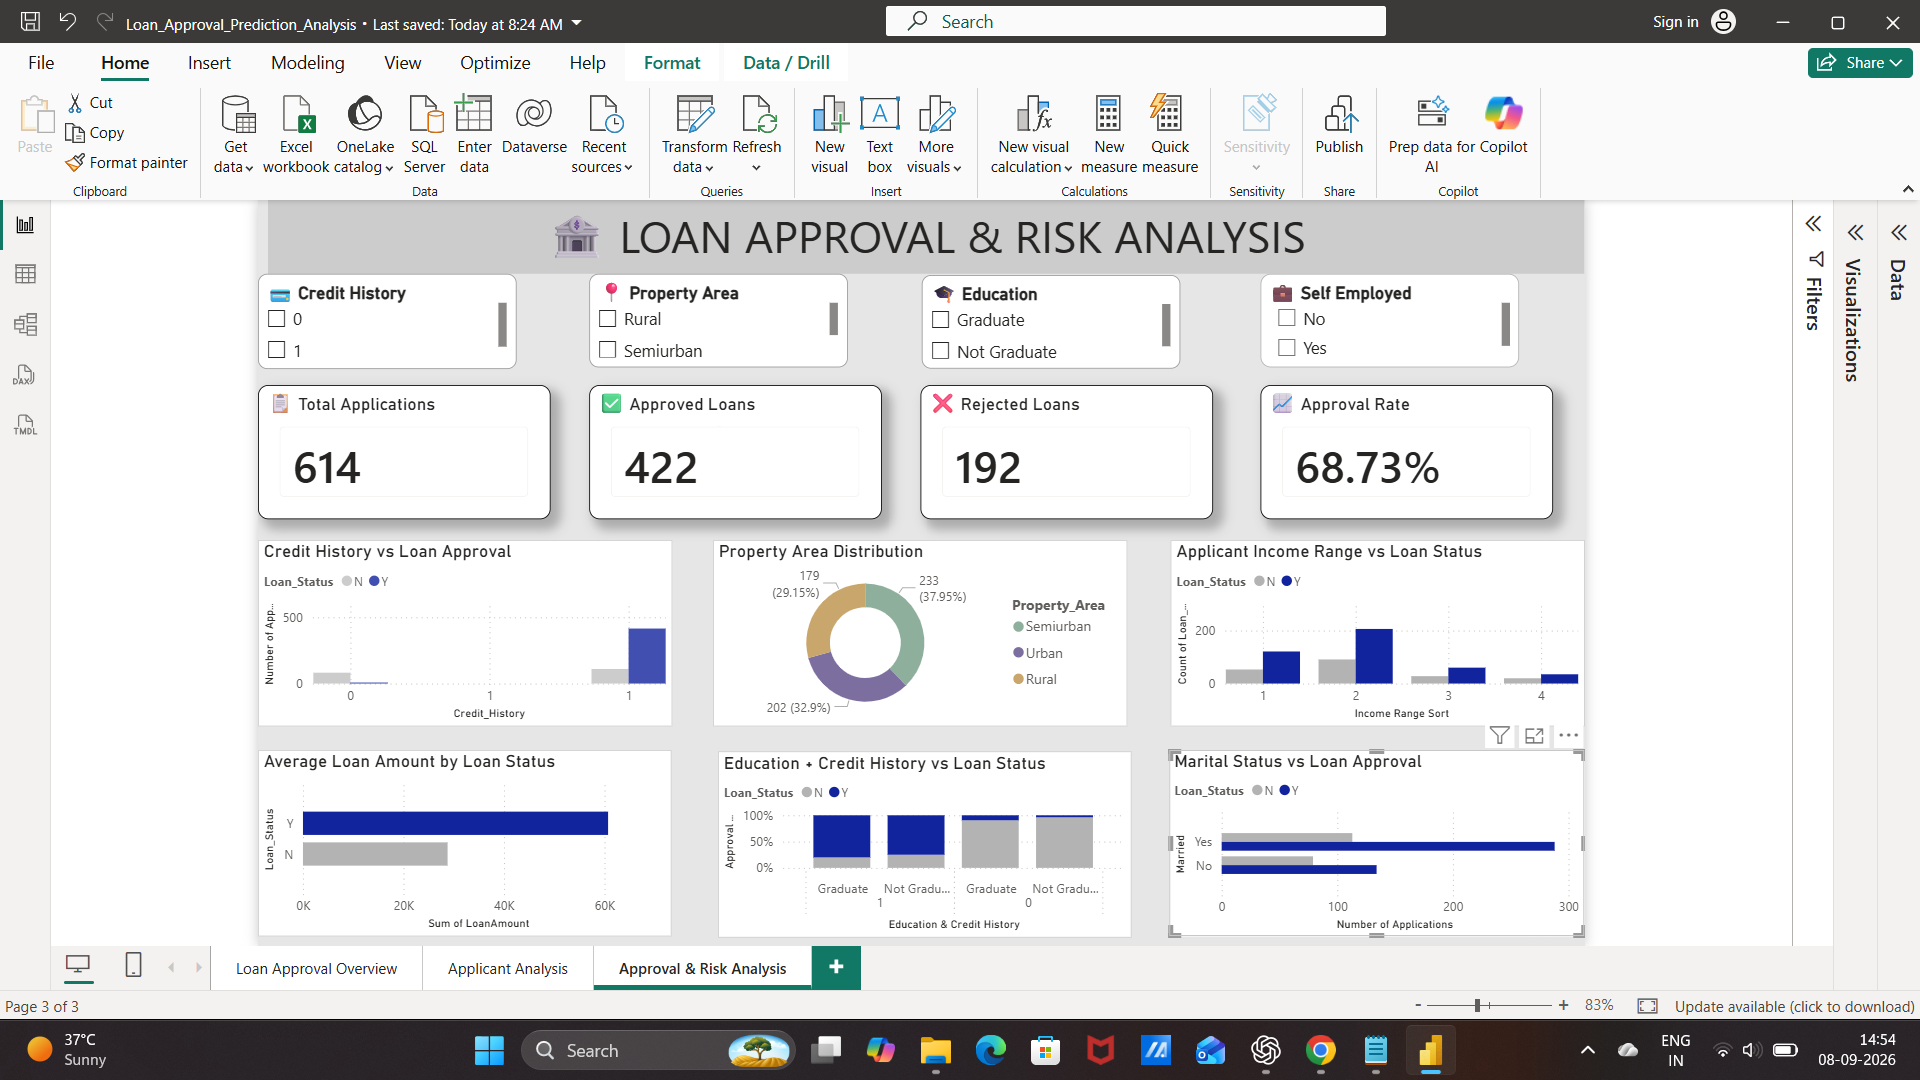

This screenshot's page, from the dashboard's own definition file:
{"tool":"powerbi","page":{"name":"Approval & Risk Analysis","canvas":[1280,720],"ordinal":2},"visuals":[{"type":"textbox","box":[9.8,0,1270.5,70.9],"z":0},{"type":"cardVisual","title":"📋 Total Applications","fields":{"Data":["LoanData.Total Applications"]},"box":[0,178.5,282.5,129.6],"z":1000},{"type":"cardVisual","title":"✅ Approved Loans","fields":{"Data":["LoanData.Approved Applications"]},"box":[319.2,178.5,282.5,129.6],"z":2000},{"type":"cardVisual","title":"❌ Rejected Loans","fields":{"Data":["LoanData.Rejected Applications"]},"box":[639.5,178.5,282.5,129.6],"z":3000},{"type":"cardVisual","title":"📈 Approval Rate","fields":{"Data":["LoanData.Approval Rate %"]},"box":[967.3,178.5,282.5,129.6],"z":4000},{"type":"listSlicer","title":"💳 Credit History","fields":{"Values":["LoanData.Credit_History"]},"box":[0,70.9,249.5,91.7],"z":5000},{"type":"listSlicer","title":"📍 Property Area","fields":{"Values":["LoanData.Property_Area"]},"box":[319.2,70.9,249.5,90.5],"z":6000},{"type":"listSlicer","title":"🎓 Education","fields":{"Values":["LoanData.Education"]},"box":[640.8,72.1,249.5,90.5],"z":7000},{"type":"slicer","title":"💼 Self Employed","fields":{"Values":["LoanData.Self_Employed"]},"box":[967.3,70.9,249.5,90.5],"z":8000},{"type":"clusteredColumnChart","title":"Credit History vs Loan Approval","fields":{"Category":["LoanData.Credit_History"],"Y":["CountNonNull(LoanData.Loan_ID)"],"Series":["LoanData.Loan_Status"]},"box":[0,327.7,399.9,179.8],"z":9000},{"type":"donutChart","title":"Property Area Distribution","fields":{"Category":["LoanData.Property_Area"],"Y":["CountNonNull(LoanData.Loan_ID)"]},"box":[439,327.7,399.9,179.8],"z":10000},{"type":"clusteredColumnChart","title":"Applicant Income Range vs Loan Status","fields":{"Category":["LoanData.Income Range Sort"],"Y":["CountNonNull(LoanData.Loan_ID)"],"Series":["LoanData.Loan_Status"]},"box":[880.4,327.7,399.9,179.8],"z":11000},{"type":"clusteredBarChart","title":"Average Loan Amount by Loan Status","fields":{"Category":["LoanData.Loan_Status"],"Y":["Sum(LoanData.LoanAmount)"]},"box":[0,530.8,399.3,179.8],"z":12000},{"type":"hundredPercentStackedColumnChart","title":"Education + Credit History vs Loan Status","fields":{"Category":["LoanData.Credit_History","LoanData.Education"],"Y":["CountNonNull(LoanData.Loan_ID)"],"Series":["LoanData.Loan_Status"]},"box":[444,532,399.3,179.8],"z":13000},{"type":"clusteredBarChart","title":" Marital Status vs Loan Approval","fields":{"Category":["LoanData.Married"],"Y":["CountNonNull(LoanData.Loan_ID)"],"Series":["LoanData.Loan_Status"]},"box":[879.5,530.8,400.5,179.8],"z":14000}]}

Visuals, with their boxes on the page's 1280x720 design canvas (x1, y1, x2, y2). These are canvas units, not pixel positions in the 1920x1080 screenshot, which may show the page scaled, cropped or inside an application window:
textbox: <box>10,0,1280,71</box>
"📋 Total Applications" cardVisual: <box>0,178,282,308</box>
"✅ Approved Loans" cardVisual: <box>319,178,602,308</box>
"❌ Rejected Loans" cardVisual: <box>640,178,922,308</box>
"📈 Approval Rate" cardVisual: <box>967,178,1250,308</box>
"💳 Credit History" listSlicer: <box>0,71,250,163</box>
"📍 Property Area" listSlicer: <box>319,71,569,161</box>
"🎓 Education" listSlicer: <box>641,72,890,163</box>
"💼 Self Employed" slicer: <box>967,71,1217,161</box>
"Credit History vs Loan Approval" clusteredColumnChart: <box>0,328,400,508</box>
"Property Area Distribution" donutChart: <box>439,328,839,508</box>
"Applicant Income Range vs Loan Status" clusteredColumnChart: <box>880,328,1280,508</box>
"Average Loan Amount by Loan Status" clusteredBarChart: <box>0,531,399,711</box>
"Education + Credit History vs Loan Status" hundredPercentStackedColumnChart: <box>444,532,843,712</box>
" Marital Status vs Loan Approval" clusteredBarChart: <box>880,531,1280,711</box>
